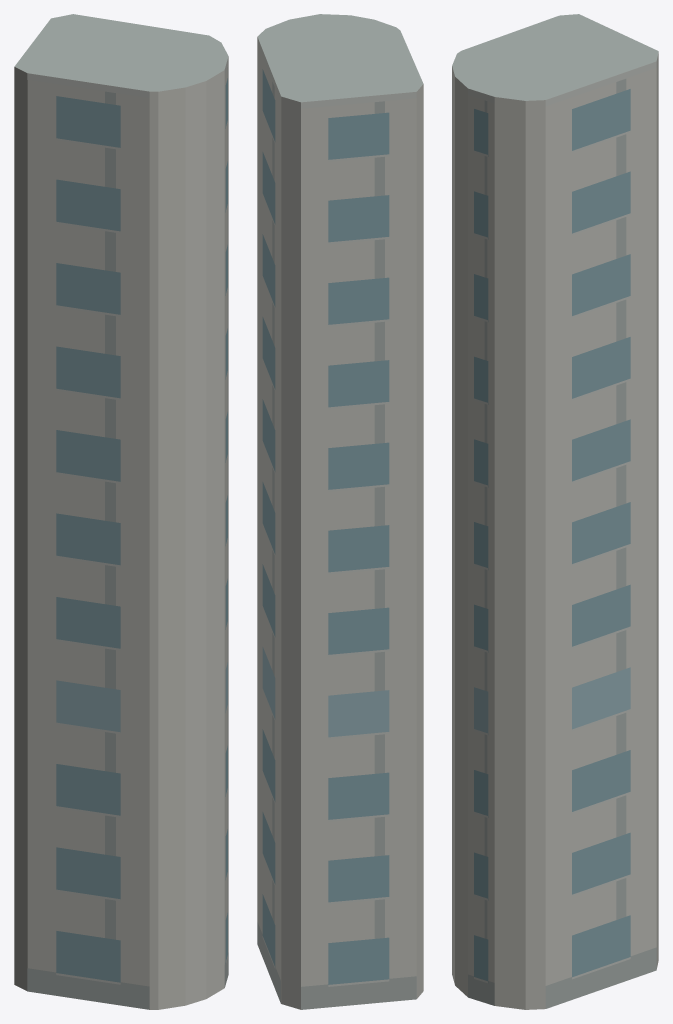
File: survey-upis-32646714.glb
The picture shows the model from 3 angles, left to right: view 1: azimuth 30°, elevation 25°; view 2: azimuth 150°, elevation 25°; view 3: azimuth 270°, elevation 25°; orthographic projection.
Parts seen in each view (by area): view 1: survey-upis-32646714.tmp; view 2: survey-upis-32646714.tmp; view 3: survey-upis-32646714.tmp.
Part boxes in pixels (left/top/right/bottom): survey-upis-32646714.tmp: left=14, top=14, right=228, bottom=1009; survey-upis-32646714.tmp: left=257, top=14, right=423, bottom=1009; survey-upis-32646714.tmp: left=452, top=14, right=658, bottom=1009.
Size of the model in its own units: 6.88 by 33.55 by 6.92.
